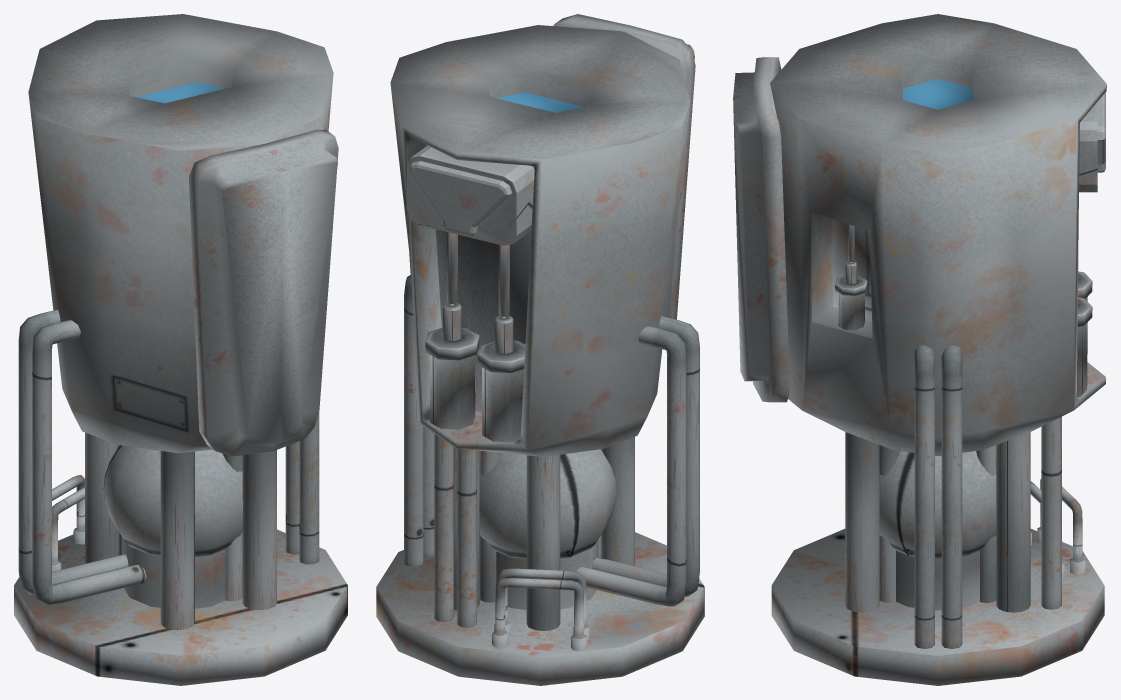
The model's file is OmegaPump.fbx.
The picture shows the model from 3 angles, left to right: view 1: azimuth 30°, elevation 25°; view 2: azimuth 150°, elevation 25°; view 3: azimuth 270°, elevation 25°; orthographic projection.
Visible parts, largest first — view 1: OmegaPumpHead, OmegaPumpFace, Platform, Rods, Pipes, Core, Pipes.001, CoreSupport, Small Pipes; view 2: OmegaPumpHead, Platform, Pipes, Rods, Hydraulic Engine, Core, Hydraulic Drum, Pipes.002, Pipes.001, OmegaPumpFace, Small Pipes, CoreSupport (+4 smaller); view 3: OmegaPumpHead, Platform, OmegaPumpFace, Rods, Pipes.001, Core, Pipes.002, CoreSupport, Hydraulic Engine, Hydraulic Drum, Hydraulic Drum.001, Small Pipes.
Part boxes in pixels (bbox=[...]): OmegaPumpHead: bbox=[28, 14, 333, 453]; OmegaPumpFace: bbox=[189, 129, 338, 456]; Platform: bbox=[14, 529, 347, 685]; Rods: bbox=[85, 432, 276, 630]; Pipes: bbox=[18, 309, 146, 604]; Core: bbox=[103, 445, 242, 556]; Pipes.001: bbox=[285, 412, 319, 564]; CoreSupport: bbox=[121, 536, 225, 608]; Small Pipes: bbox=[52, 475, 84, 571]; OmegaPumpHead: bbox=[390, 25, 690, 456]; Platform: bbox=[376, 532, 704, 685]; Pipes: bbox=[574, 316, 699, 606]; Rods: bbox=[454, 437, 634, 630]; Hydraulic Engine: bbox=[407, 145, 534, 245]; Core: bbox=[479, 449, 616, 559]; Hydraulic Drum: bbox=[425, 327, 525, 442]; Pipes.002: bbox=[434, 434, 476, 627]; Pipes.001: bbox=[404, 275, 434, 566]; OmegaPumpFace: bbox=[553, 14, 695, 319]; Small Pipes: bbox=[492, 568, 589, 651]; CoreSupport: bbox=[496, 539, 598, 609]; OmegaPumpHead: bbox=[770, 14, 1106, 455]; Platform: bbox=[771, 529, 1104, 685]; OmegaPumpFace: bbox=[733, 57, 789, 402]; Rods: bbox=[845, 432, 1030, 612]; Pipes.001: bbox=[914, 345, 962, 648]; Core: bbox=[879, 451, 996, 558]; Pipes.002: bbox=[1041, 416, 1061, 609]; CoreSupport: bbox=[896, 550, 979, 610]; Hydraulic Engine: bbox=[1079, 92, 1105, 192]; Hydraulic Drum: bbox=[1076, 271, 1092, 397]; Hydraulic Drum.001: bbox=[835, 276, 867, 330]; Small Pipes: bbox=[1030, 478, 1085, 577].
Bounding box in the file's own units: 368 × 627 × 399.
